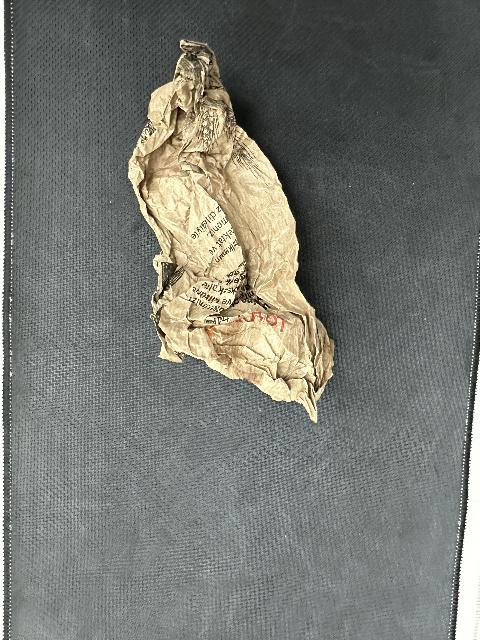Kagit: (125, 38, 338, 424)
